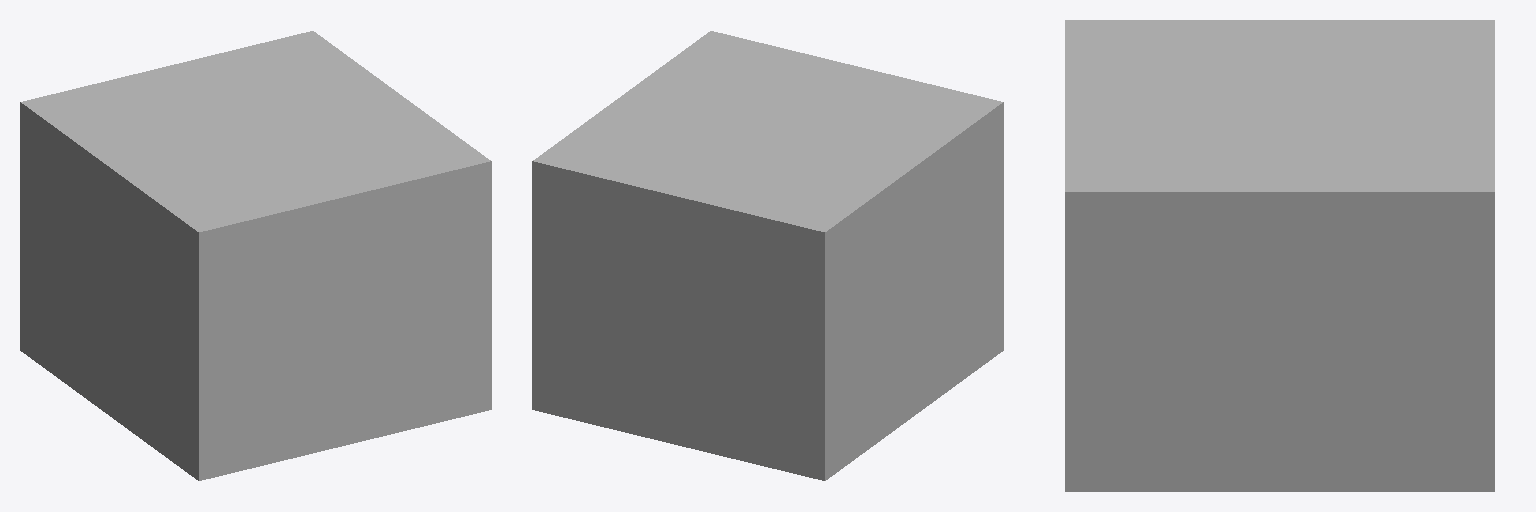
robot.urdf — myfirst:
<?xml version="1.0"?>
 <robot name="myfirst">
   <material name="silver">
     <color rgba="0.75294118 0.75294118 0.75294118 1"/>
   </material>
   <material name="box_size">
     <color rgba="0.220 0.1902 0.0732 1"/>
   </material>
   <link name="right_leg">
     <visual>
       <geometry>
         <box size="0.207 0.2185 0.1681"/>
       </geometry>
       <material name="silver"/>
     </visual>
     <collision>
       <geometry>
         <box size="0.207 0.2185 0.1681"/>
       </geometry>
     </collision>
     <inertial>
       <mass value="0.75"/>
       <inertia ixx="1.0" ixy="0.0" ixz="0.0" iyy="1.0" iyz="0.0" izz="1.0"/>
     </inertial>
   </link>
 </robot>

--- Facts derived from the render (not from the file) ---
3 views of the same robot in one strip: view 1: azimuth 30°, elevation 25°; view 2: azimuth 150°, elevation 25°; view 3: azimuth 270°, elevation 25° (orthographic).
Robot: myfirst — 1 links, 0 joints (none); root link right_leg; default pose: every joint at zero.
Links seen in each view (by area): view 1: right_leg; view 2: right_leg; view 3: right_leg.
Boxes of the visible links, x1,y1,x2,y2 form: right_leg: (20, 31, 491, 480); right_leg: (532, 31, 1003, 480); right_leg: (1065, 20, 1494, 491).
Size in the robot's own frame: 0.207 by 0.2185 by 0.1681 metres.
Geometry: primitives only (box / cylinder / sphere), no mesh files.
